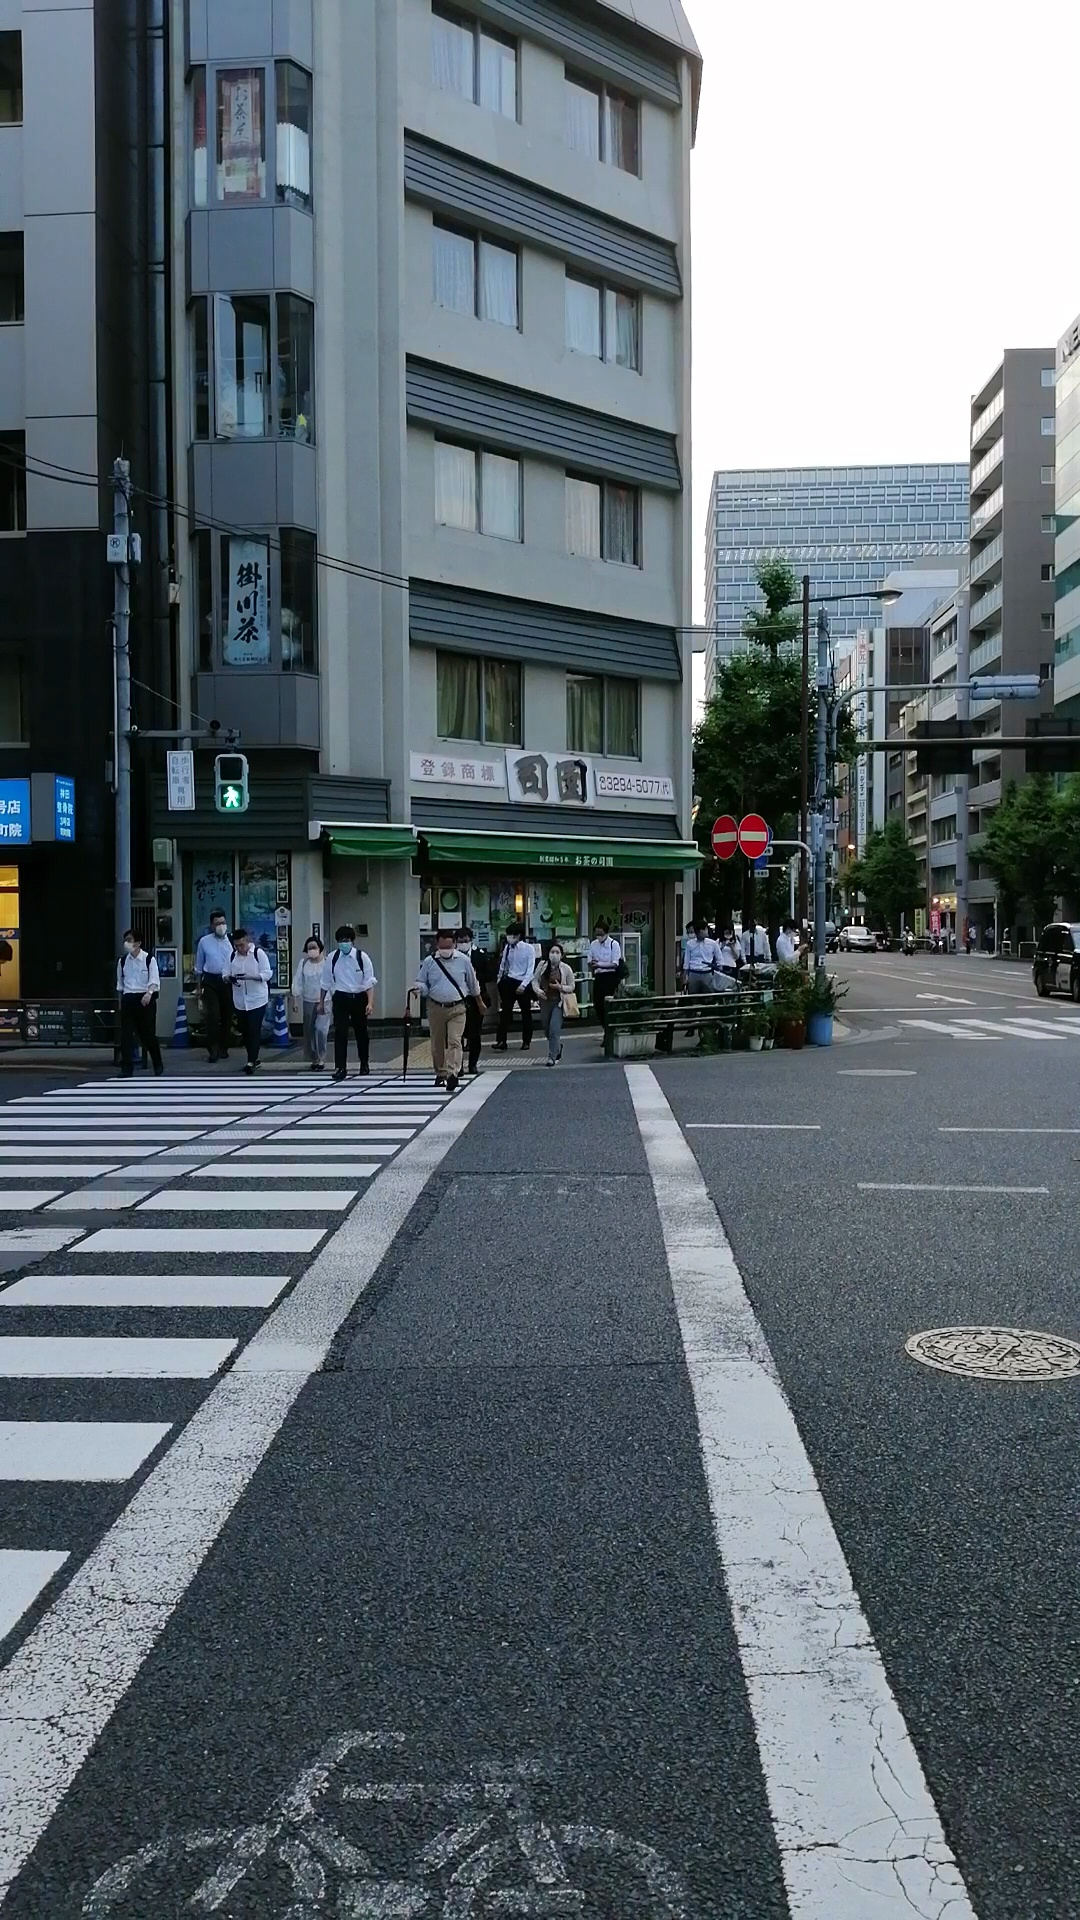green: (214, 753, 251, 814)
